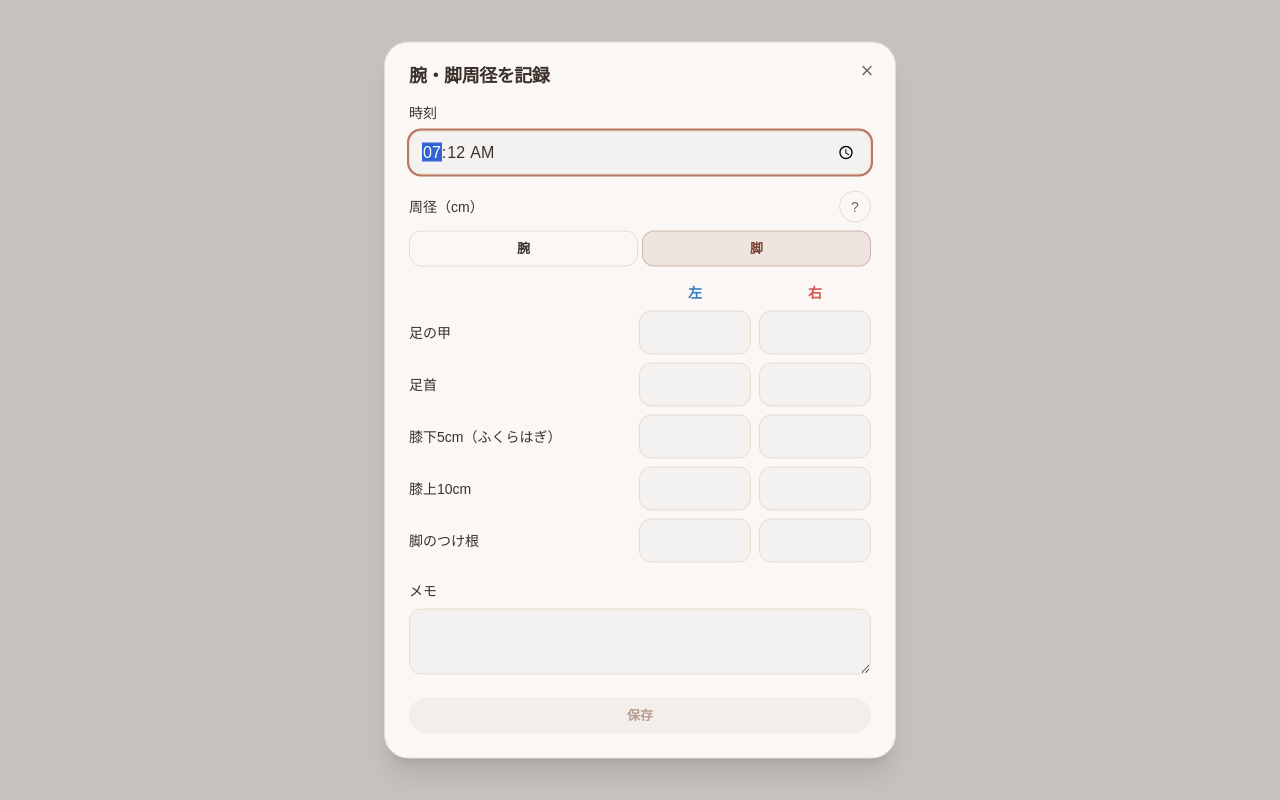
ModuleRecordDialog › circumference › opens the measuring help for the selected limb
The image size is (1280, 800).
Click the button named "測る位置の説明".
click(855, 206)  # box [839,190,871,222]
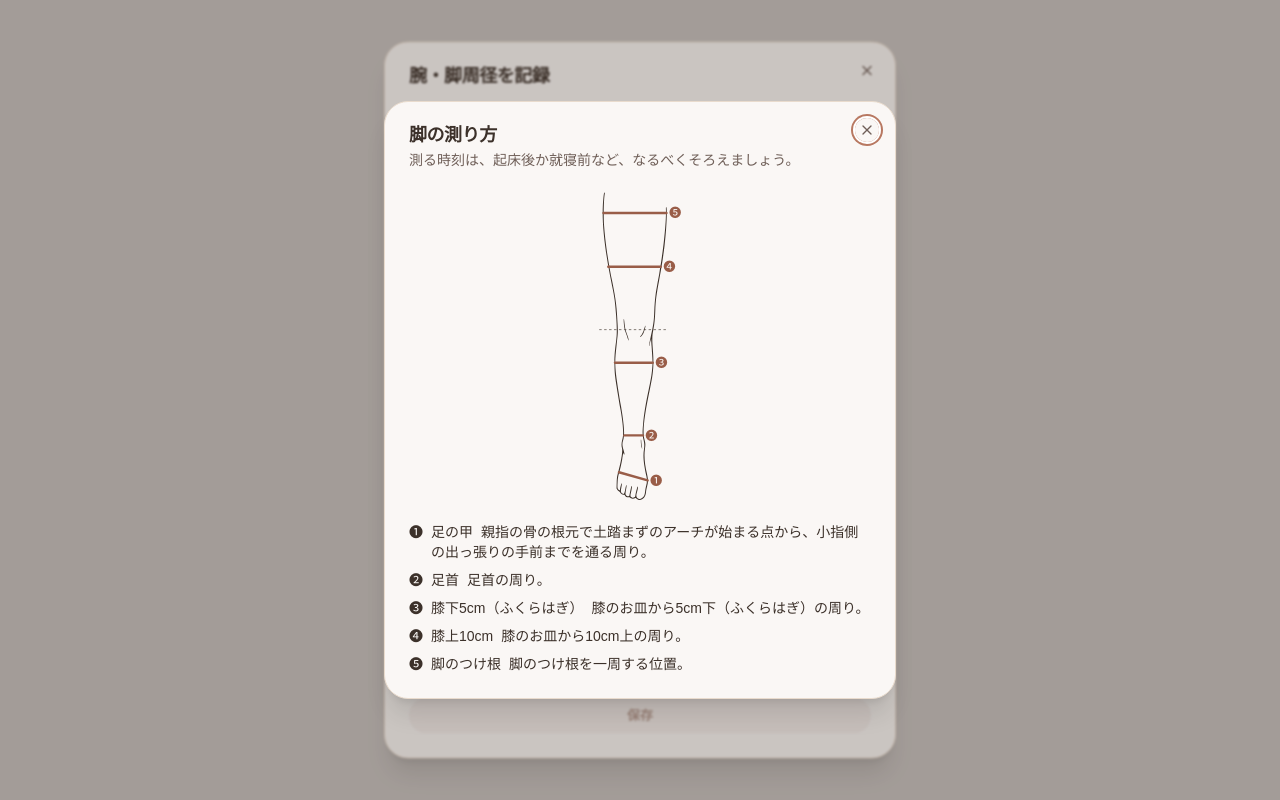
Expected: the text "親指の骨の根元で土踏まずのアーチが始まる点から、小指側の出っ張りの手前までを通る周り。" is shown, [431,524,858,560]
Expected: the picture is shown, [596,186,684,506]
